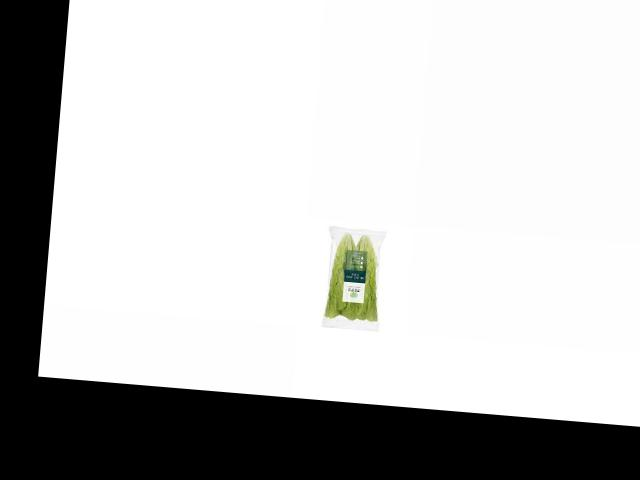lettuce: (317, 230, 384, 325)
